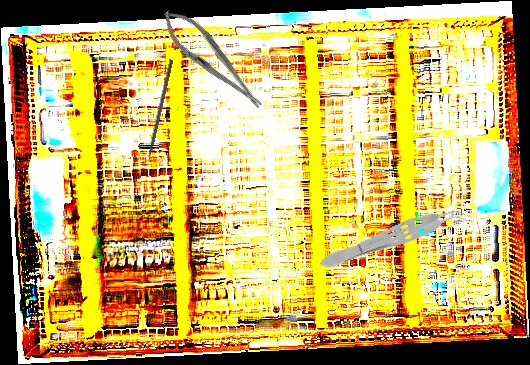Hook Surgical: (143, 58, 174, 169)
Needle Holder: (153, 0, 272, 120)
Tissue Forceps: (315, 198, 476, 277)
